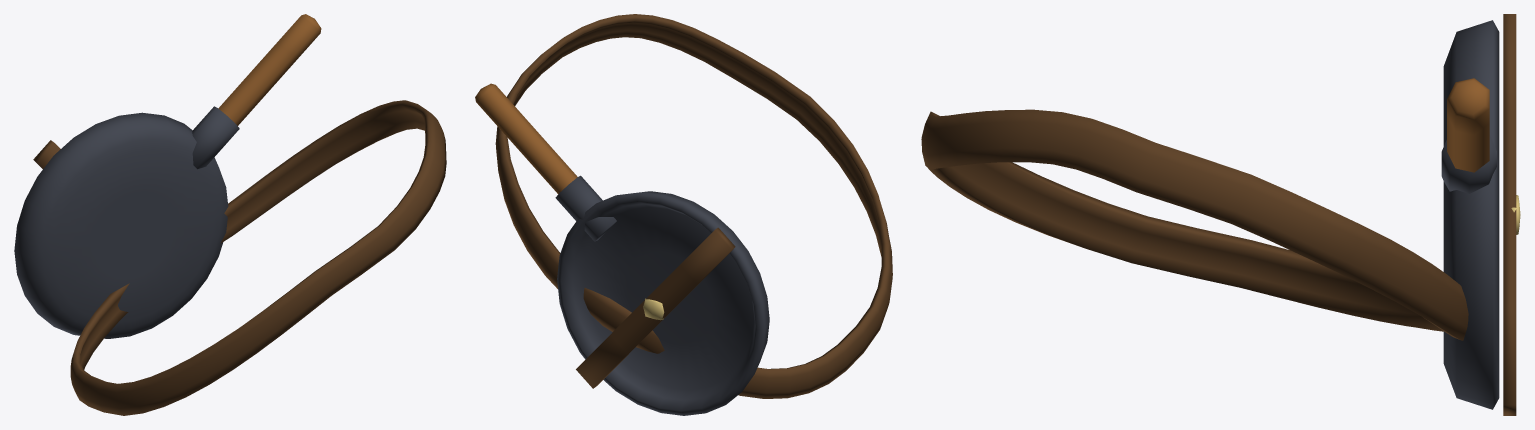
Rendered from back_pan.glb.
3 renders of one model, left to right at view 1: azimuth 30°, elevation 25°; view 2: azimuth 150°, elevation 25°; view 3: azimuth 270°, elevation 25°, orthographic. The views are drawn at different scales.
Parts seen in each view (by area): view 1: BackPan; view 2: BackPan; view 3: BackPan.
Boxes of the visible parts, <box> form: BackPan: <box>14,14,446,415</box>; BackPan: <box>475,14,892,415</box>; BackPan: <box>921,14,1520,415</box>.
Bounding box in the file's own units: 0.589 × 0.4696 × 0.5624.
